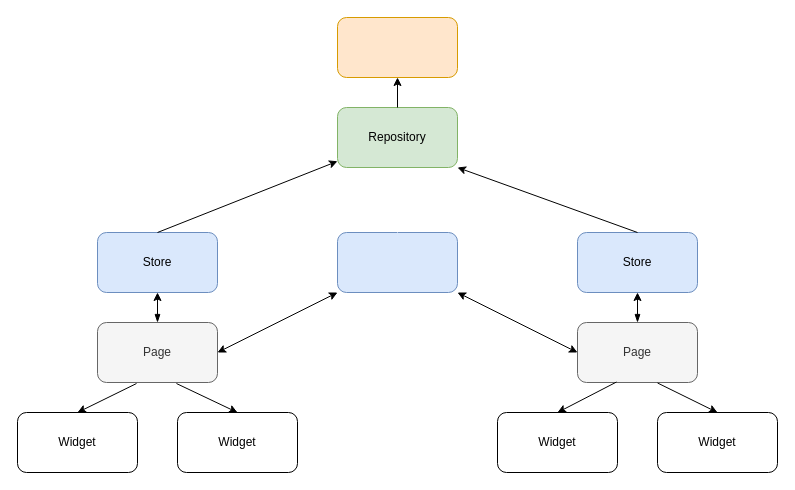
Some shapes in this 795 by 490 pixel diagram are drawn without their labels. The shapes that lost their labels are listed below. From the top down, each one's box as (x1, y1, x2, y2) in pixels, then its label:
(336, 16, 458, 78): Client
(336, 232, 458, 292): AppStore
